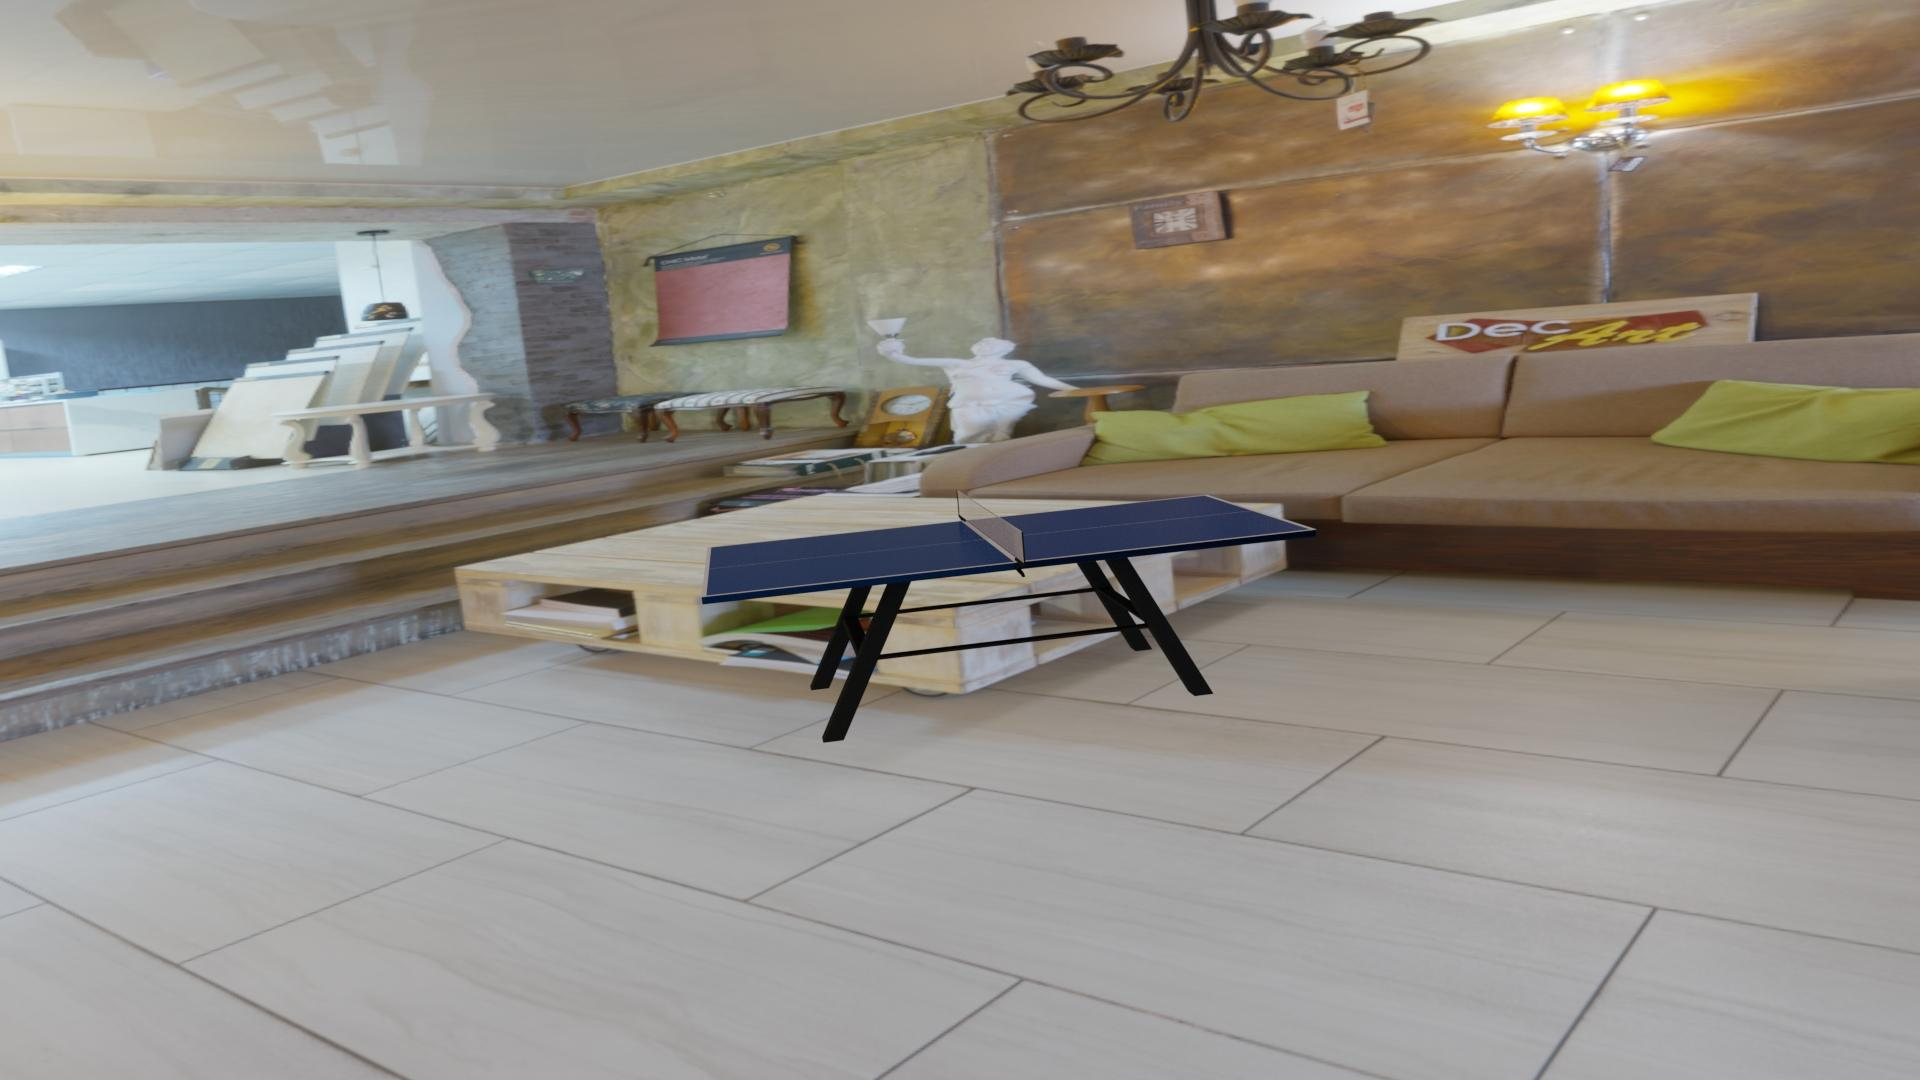table: (707, 496, 1311, 596)
